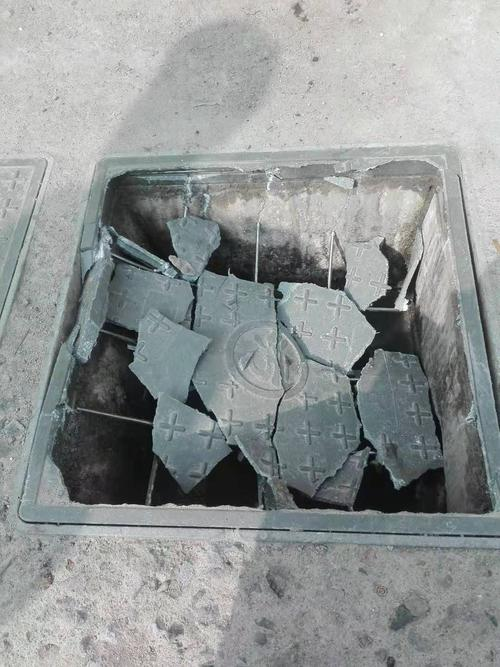broke: (39, 150, 487, 552)
